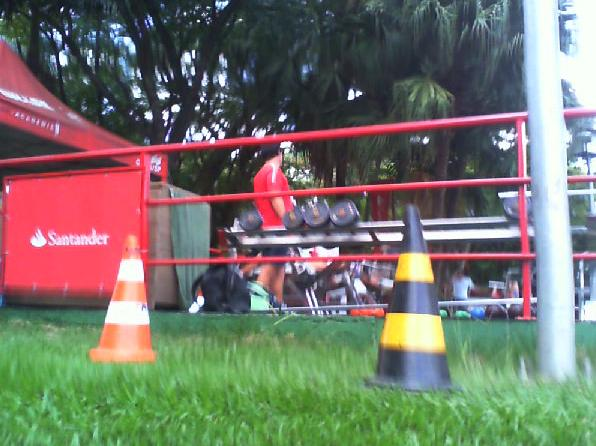0 cone: (356, 204, 463, 391), (90, 234, 156, 363)
